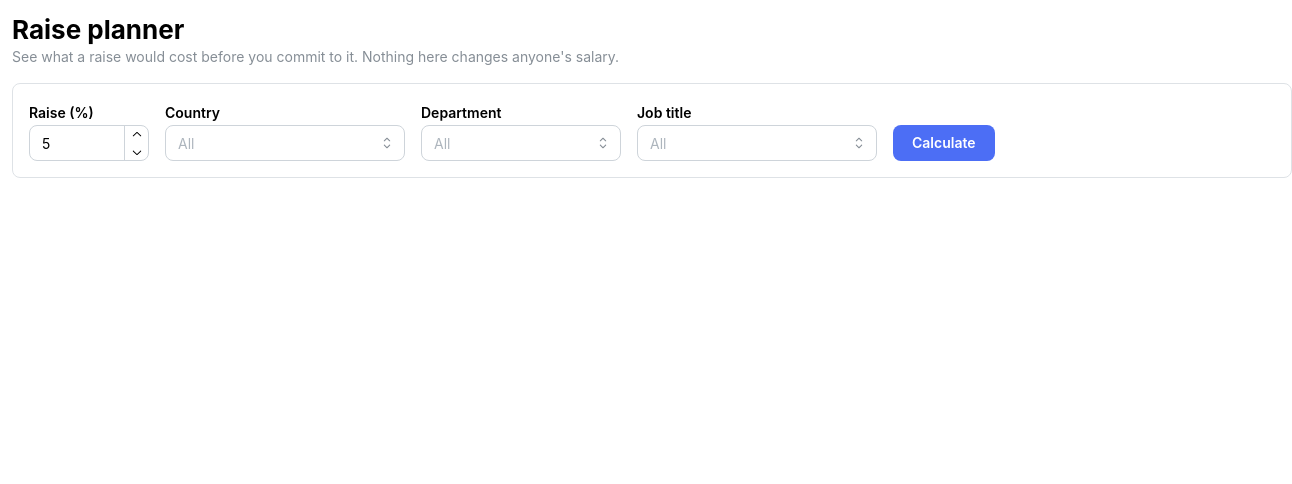
Test case: RaisePlannerPage › shows the cost of the raise by country
Click the button "Calculate" at x=944, y=143, box [893,125,994,161]
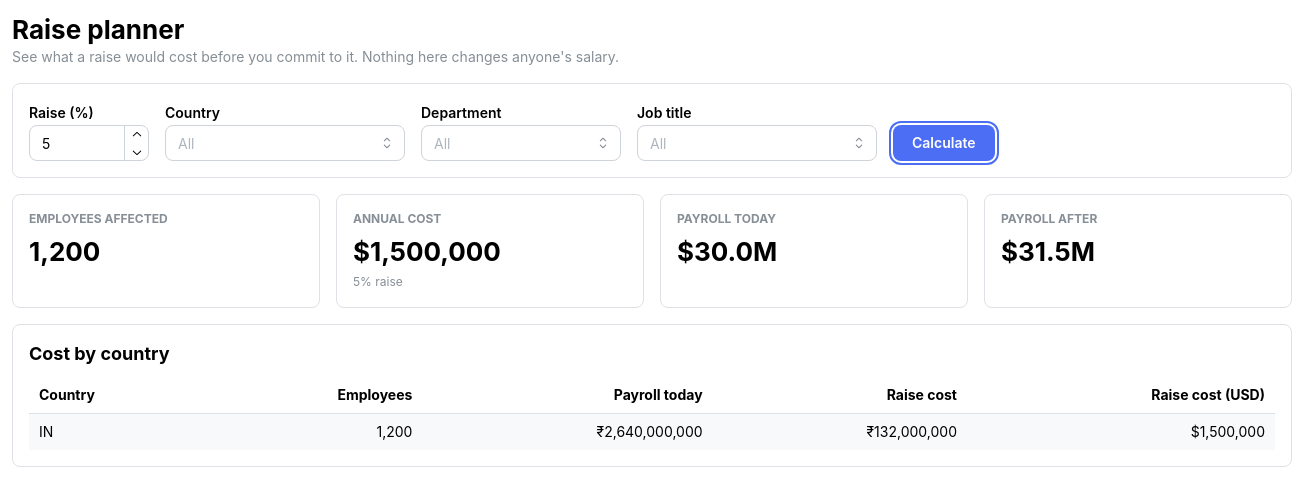
Now the text "Employees affected" is shown, box [29,211,168,226]
Now the text "1,200" is shown 2 times, box [29,236,100,267]; [204,413,422,450]
Now the text "$1,500,000" is shown 2 times, box [353,236,501,267]; [967,413,1275,450]
